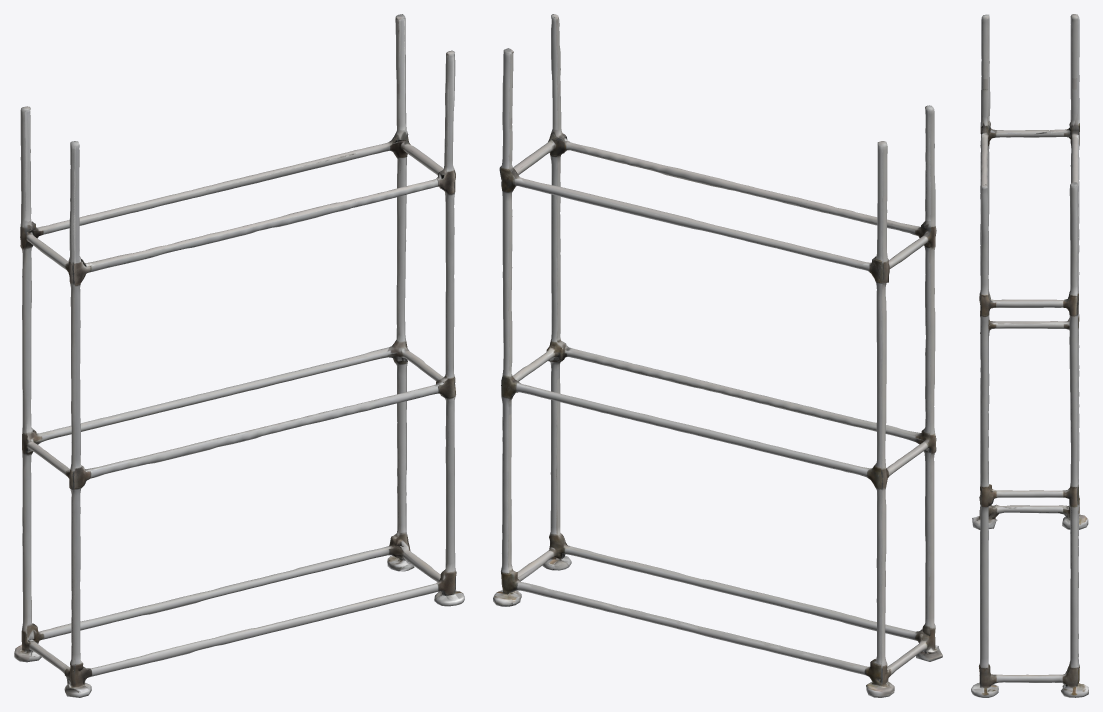
File: Stalazas.glb
The picture shows the model from 3 angles, left to right: view 1: azimuth 30°, elevation 25°; view 2: azimuth 150°, elevation 25°; view 3: azimuth 270°, elevation 25°; orthographic projection. The views are drawn at different scales.
Bounding box in the file's own units: 1.52 × 2 × 0.4198.
1 material, 1 textured.
